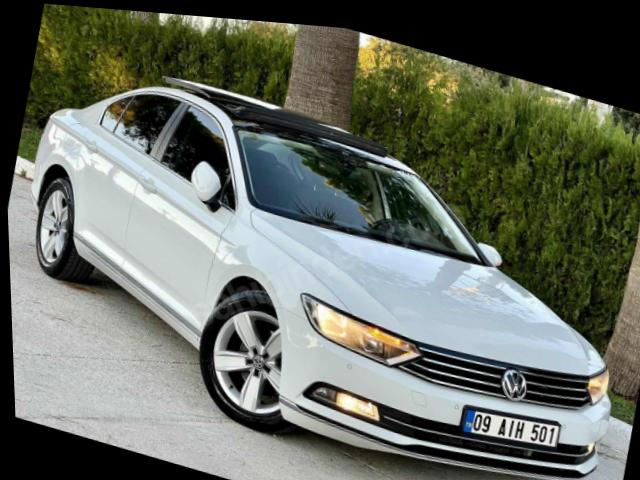plaka: (462, 409, 560, 447)
